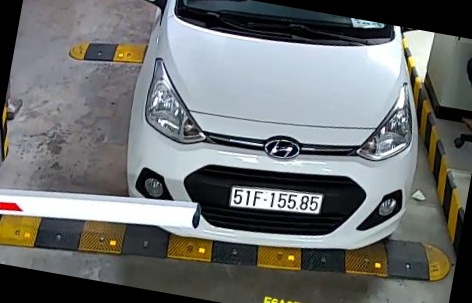plate: (225, 174, 336, 237)
